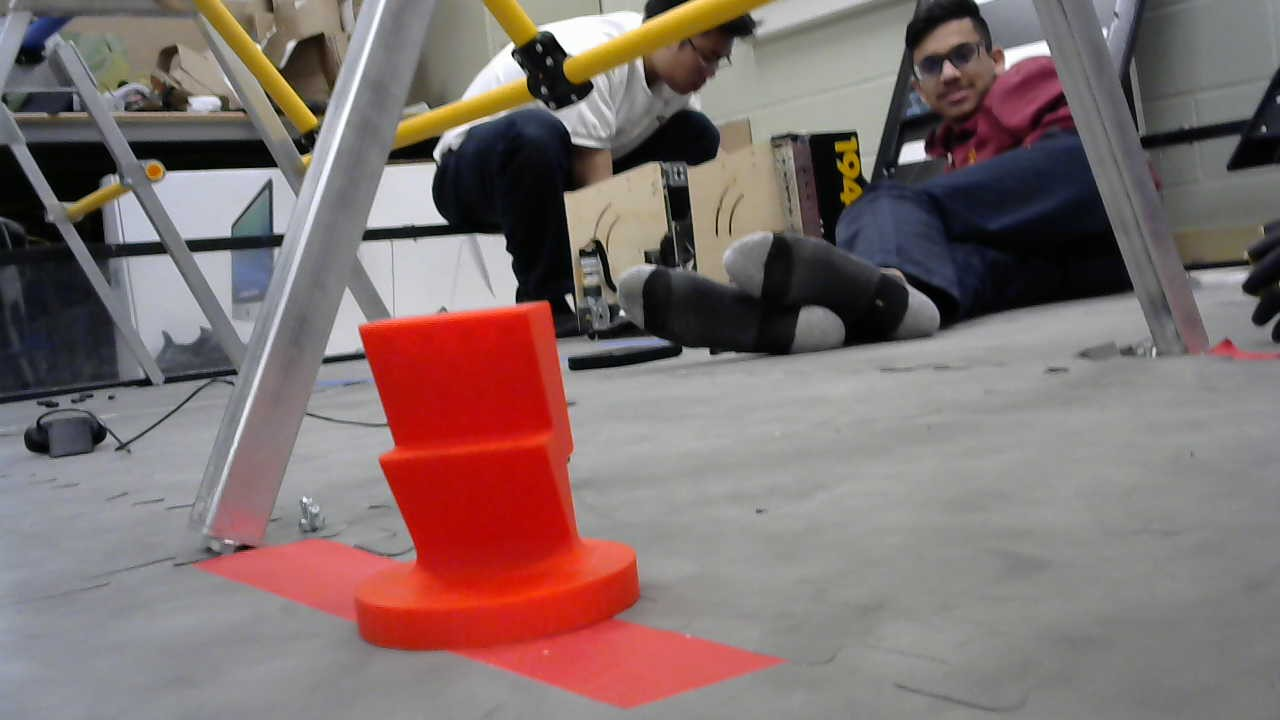redobject: (352, 296, 640, 654)
